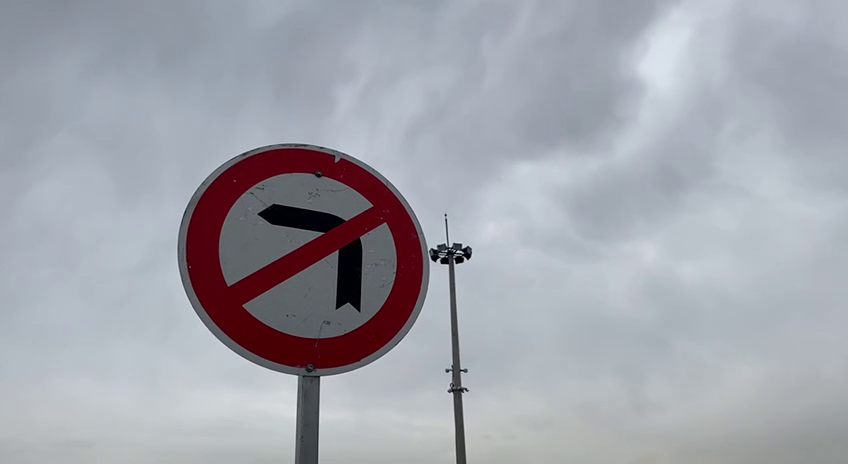noTurnLeft: (171, 138, 439, 384)
